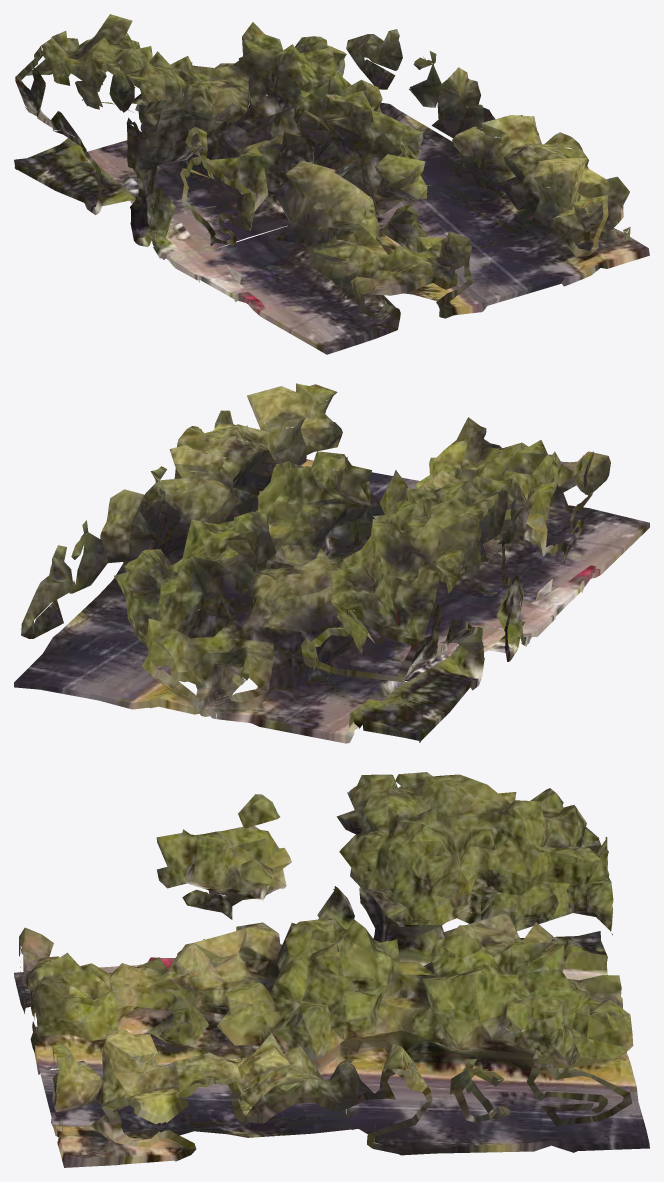
The picture shows the model from 3 angles, top to bottom: view 1: azimuth 30°, elevation 25°; view 2: azimuth 150°, elevation 25°; view 3: azimuth 270°, elevation 25°; orthographic projection. The views are drawn at different scales.
Parts seen in each view (by area): view 1: Mesh_0; view 2: Mesh_0; view 3: Mesh_0.
Part boxes in pixels (<box>): Mesh_0: <box>14,14,649,354</box>; Mesh_0: <box>14,383,649,743</box>; Mesh_0: <box>14,772,649,1167</box>.
Bounding box in the file's own units: 66.6 × 29.49 × 82.4.
Materials: 1 (1 with a texture image).
